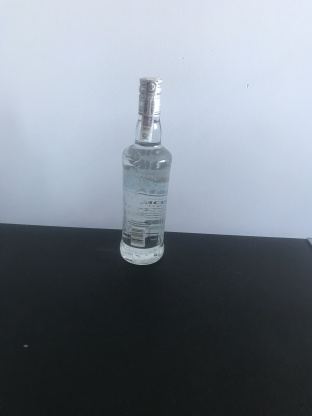nakretka: (136, 75, 164, 117)
